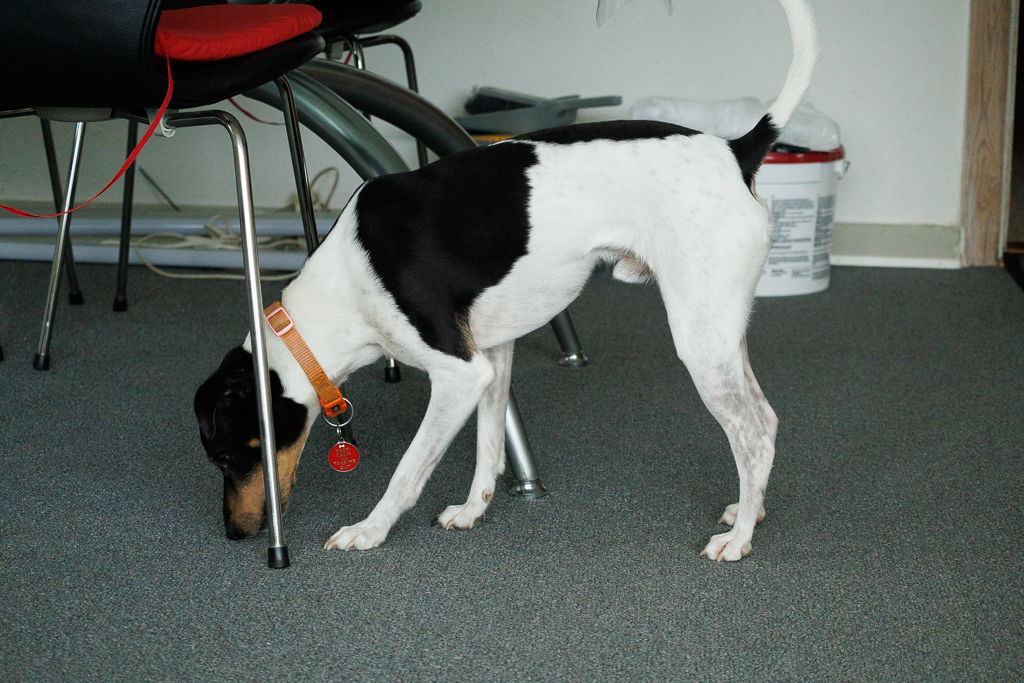Dog: (183, 0, 829, 572)
